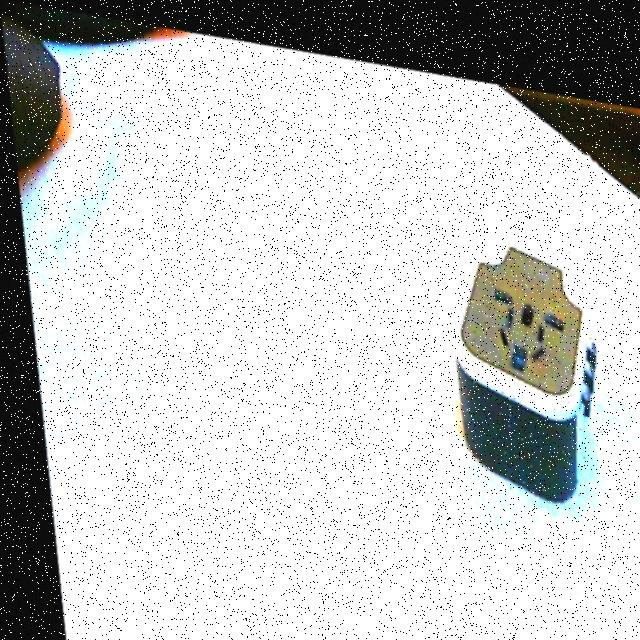adapter: (434, 210, 604, 492)
